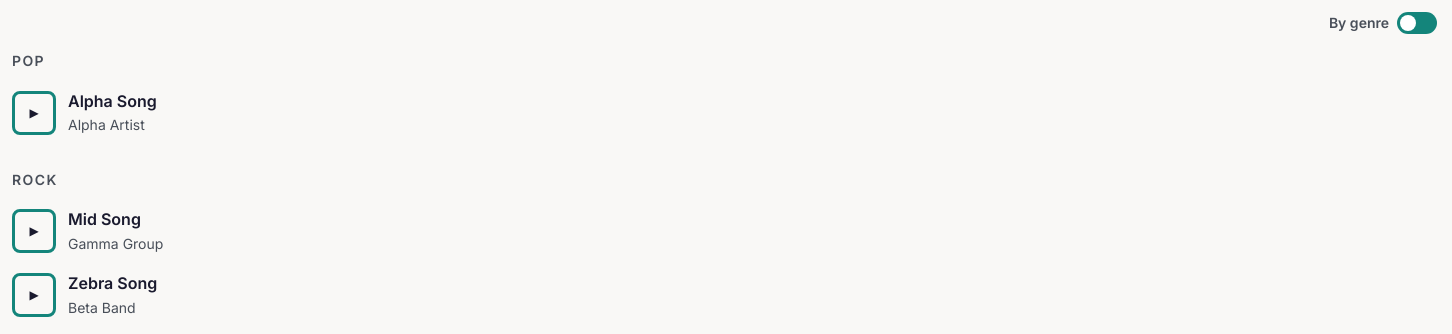
Scenario: MusicPlayer › switches to a flat artist-sorted list with genre chips
Click the switch.
click(1417, 23)  # box [1397,12,1437,34]
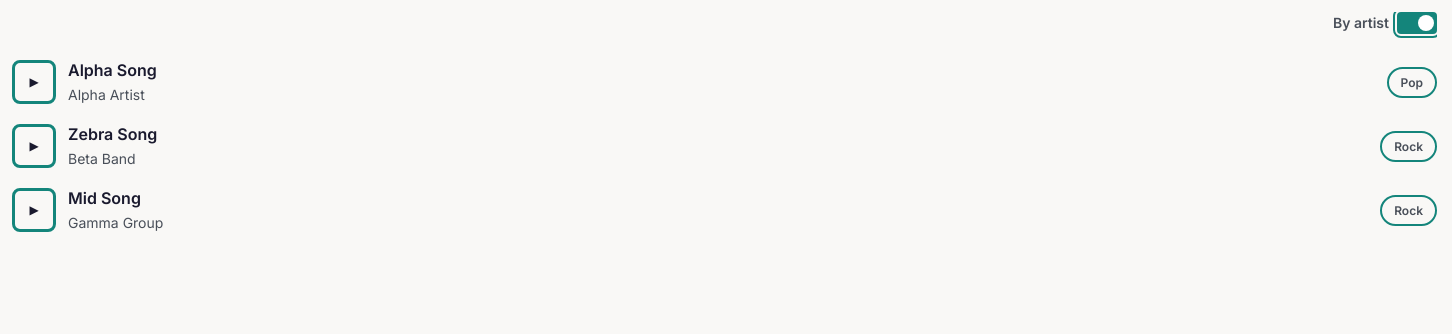
expect no headings are shown: met
